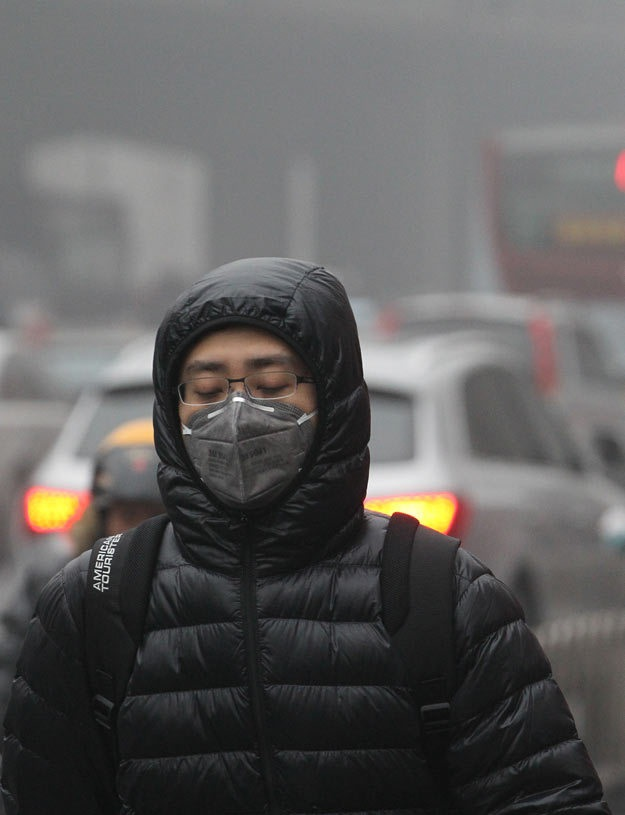face_mask: (178, 316, 316, 513)
